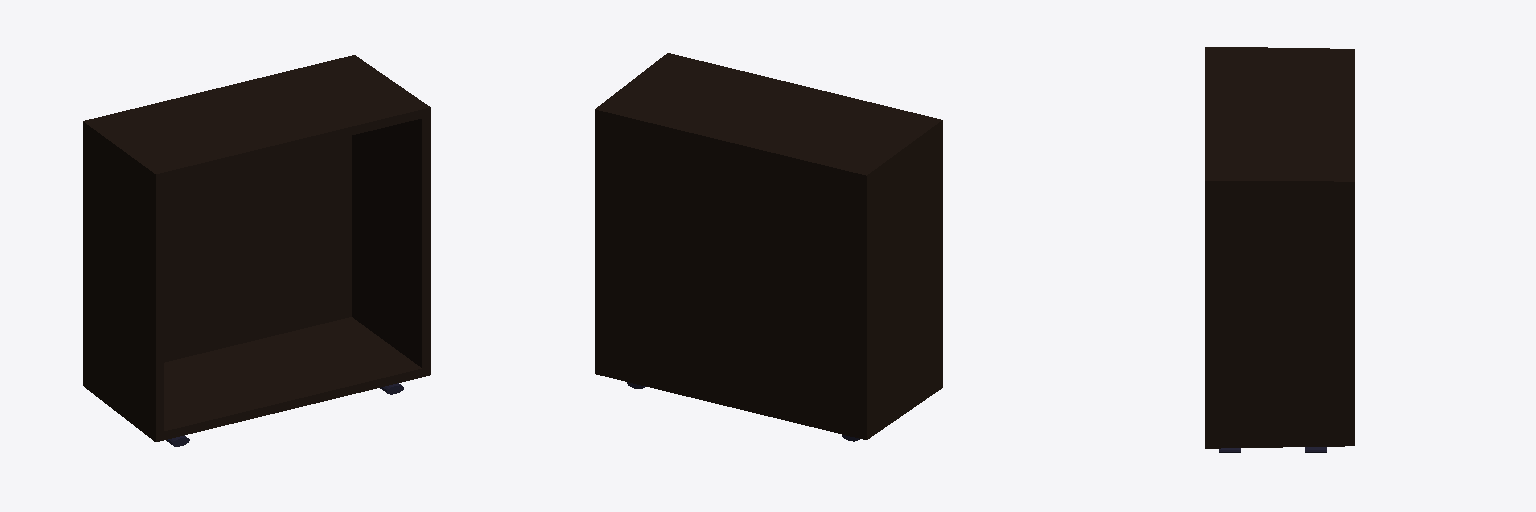
Rendered from openWardrobe.obj.
3 views of the same model, side by side, from view 1: azimuth 30°, elevation 25°; view 2: azimuth 150°, elevation 25°; view 3: azimuth 270°, elevation 25° (orthographic).
Parts seen in each view (by area): view 1: Box001; view 2: Box001; view 3: Box001.
Part boxes in pixels (left/top/right/bottom): Box001: left=83, top=55, right=430, bottom=441; Box001: left=595, top=53, right=942, bottom=439; Box001: left=1205, top=47, right=1354, bottom=448.
Size of the model in its own units: 59.84 by 59.18 by 28.1.